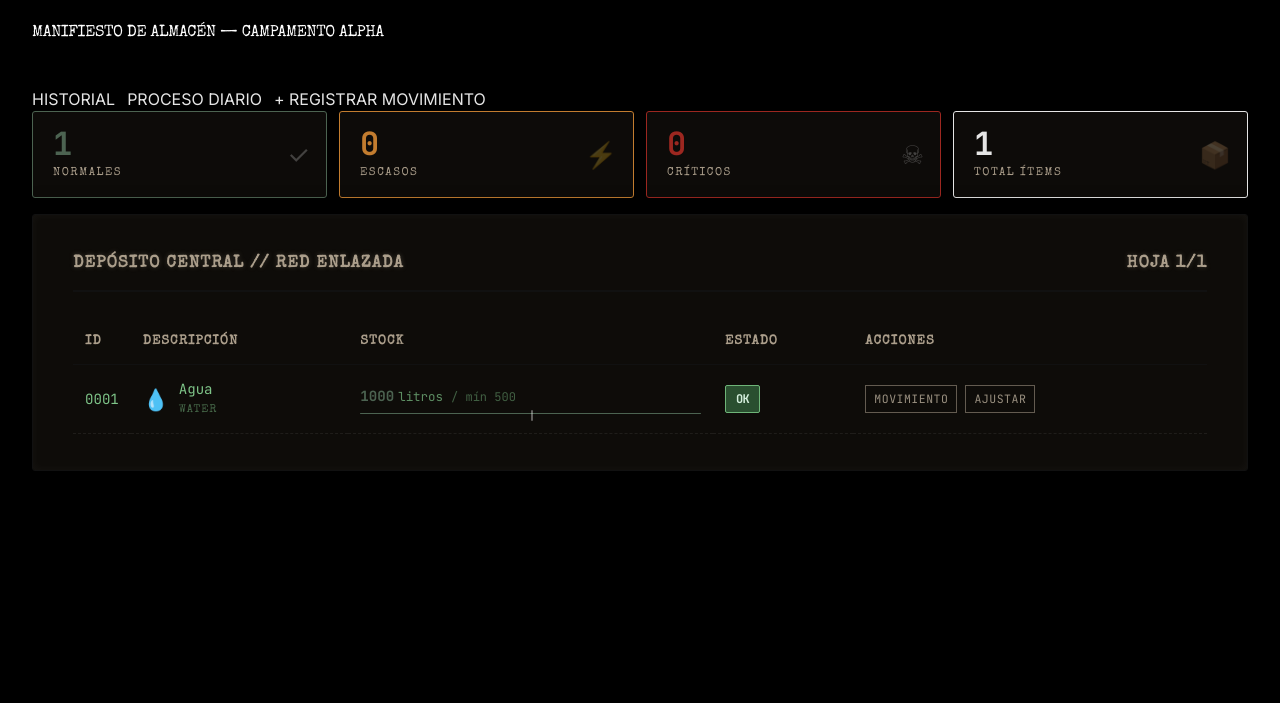
Test: Admin → Resources › create movement (regression: camp_id + resource_id must be NUMBERS) › blocks submit when quantity is 0
Step 1. Click the button "+ REGISTRAR MOVIMIENTO" → x=380, y=99, box [274,87,486,111]
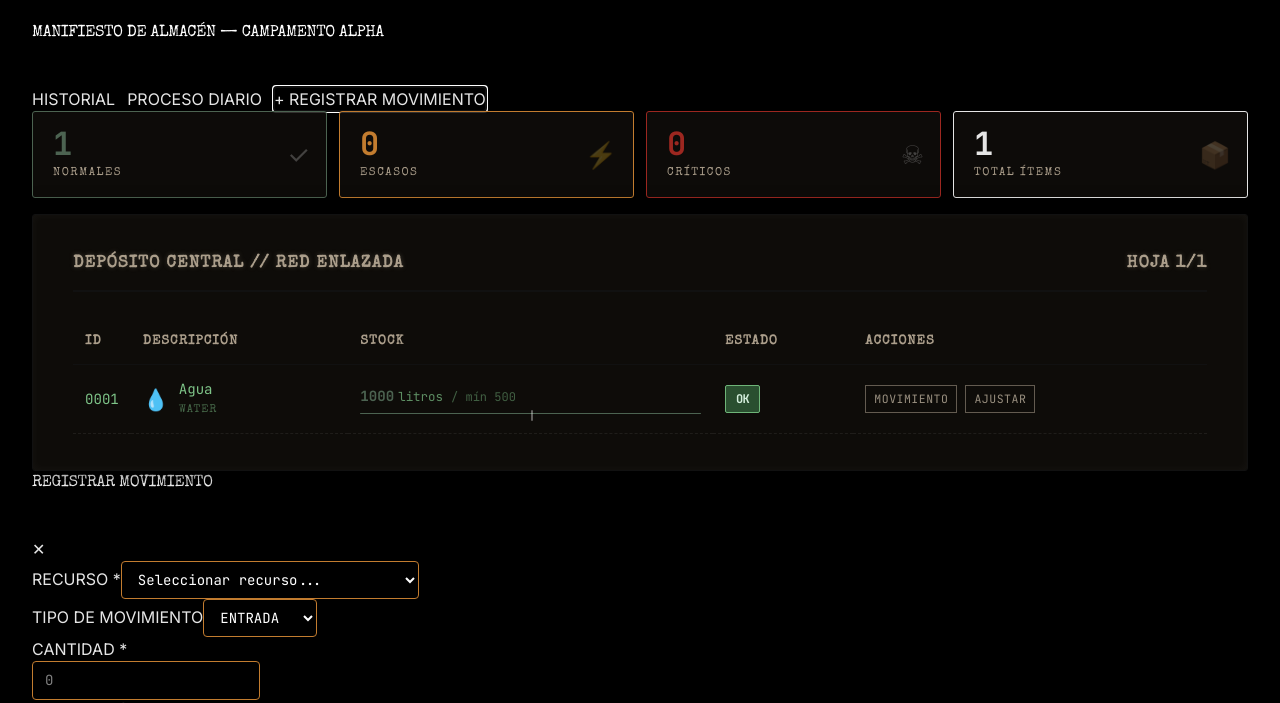
Step 2. Select "Agua (1000 litros disponibles)" in the dropdown labelled "RECURSO *" → x=270, y=580, box [121,561,419,599]
(page scrolled)
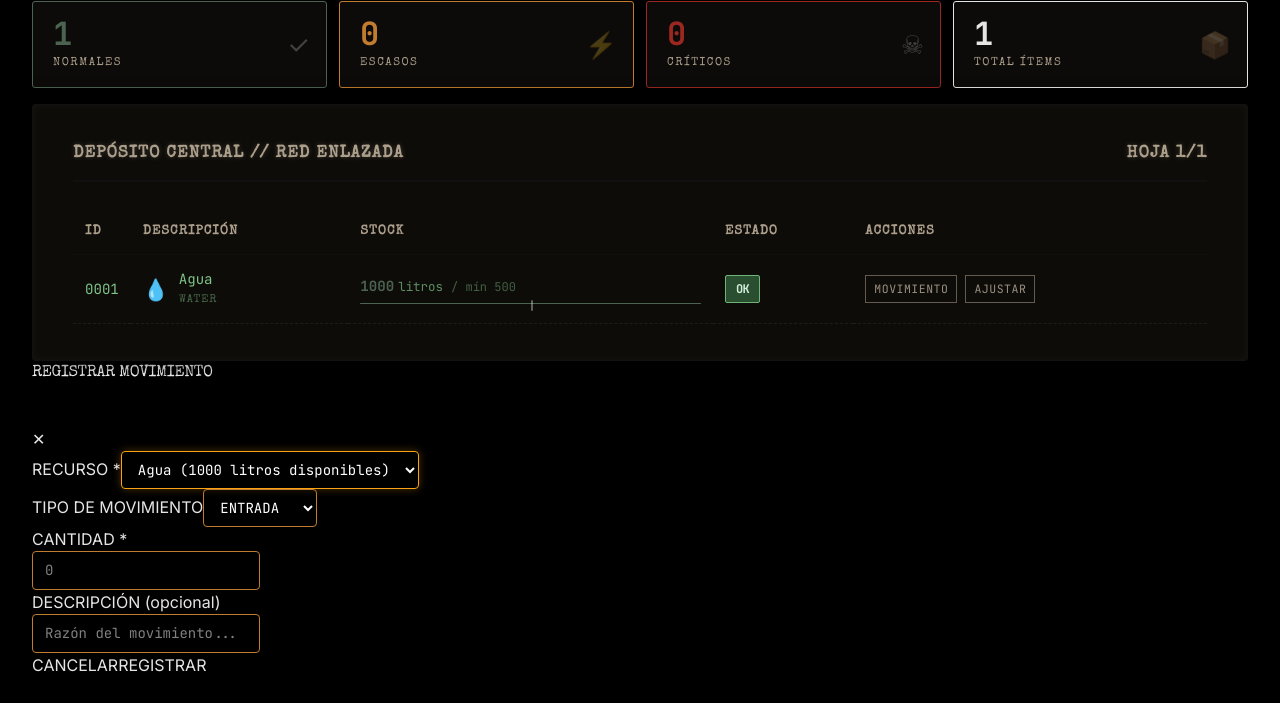
Step 3. Click the button "REGISTRAR" → x=162, y=665, box [118,653,206,677]
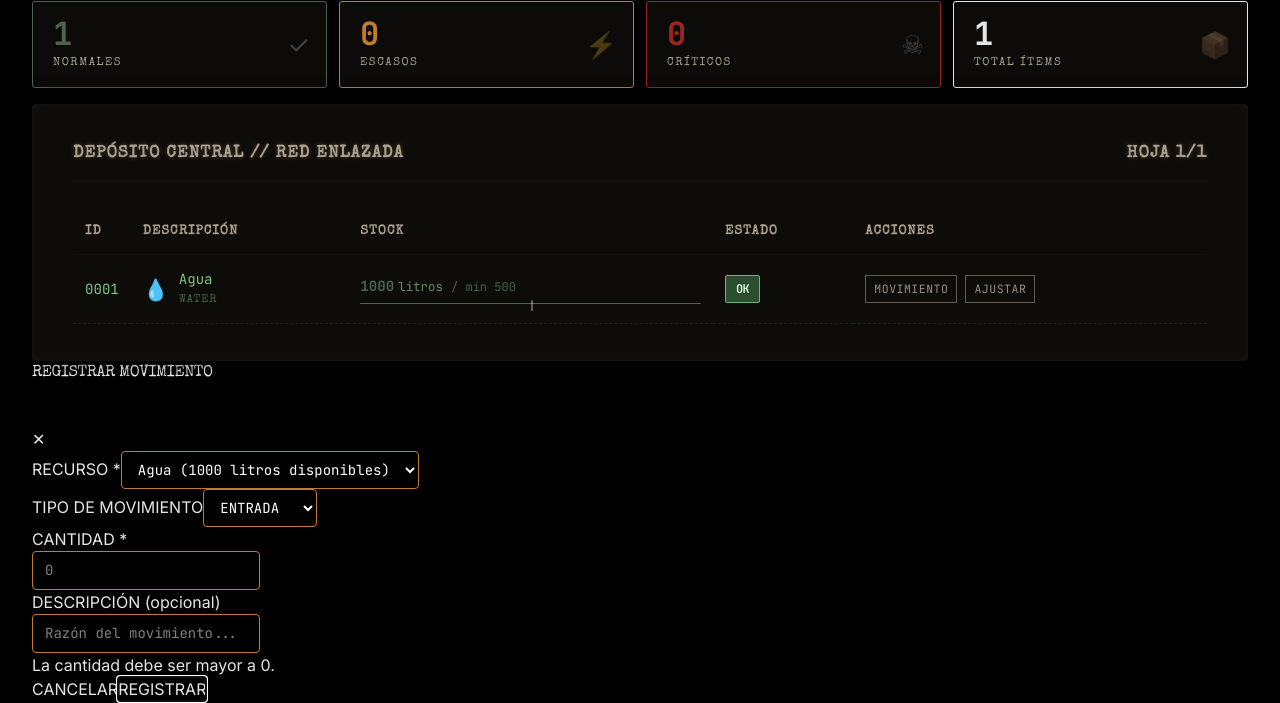
Now the text "La cantidad debe ser mayor a 0." is shown, box [32,655,275,675]
